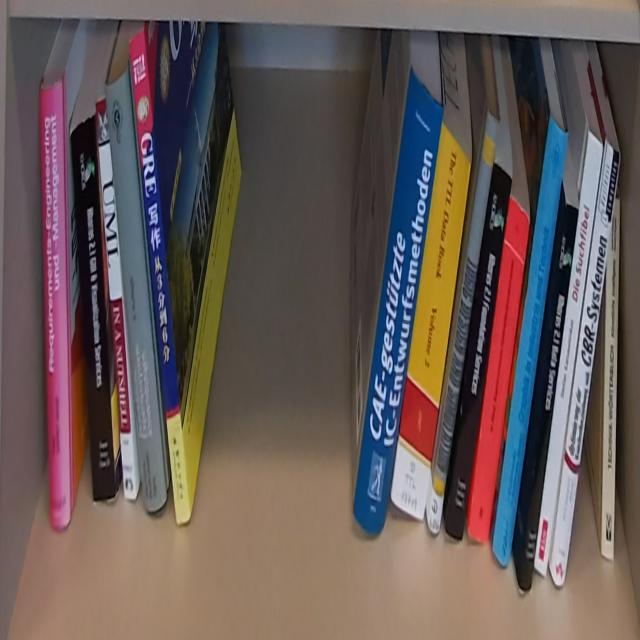Book Spine: (353, 64, 444, 534), (492, 115, 568, 567), (391, 123, 473, 527), (549, 139, 620, 588), (426, 103, 499, 536), (534, 131, 603, 582), (130, 29, 191, 527), (106, 66, 167, 513), (446, 161, 513, 544), (519, 203, 580, 593), (469, 198, 530, 545), (71, 113, 116, 503), (96, 96, 137, 501), (41, 77, 71, 530), (602, 199, 620, 564)
